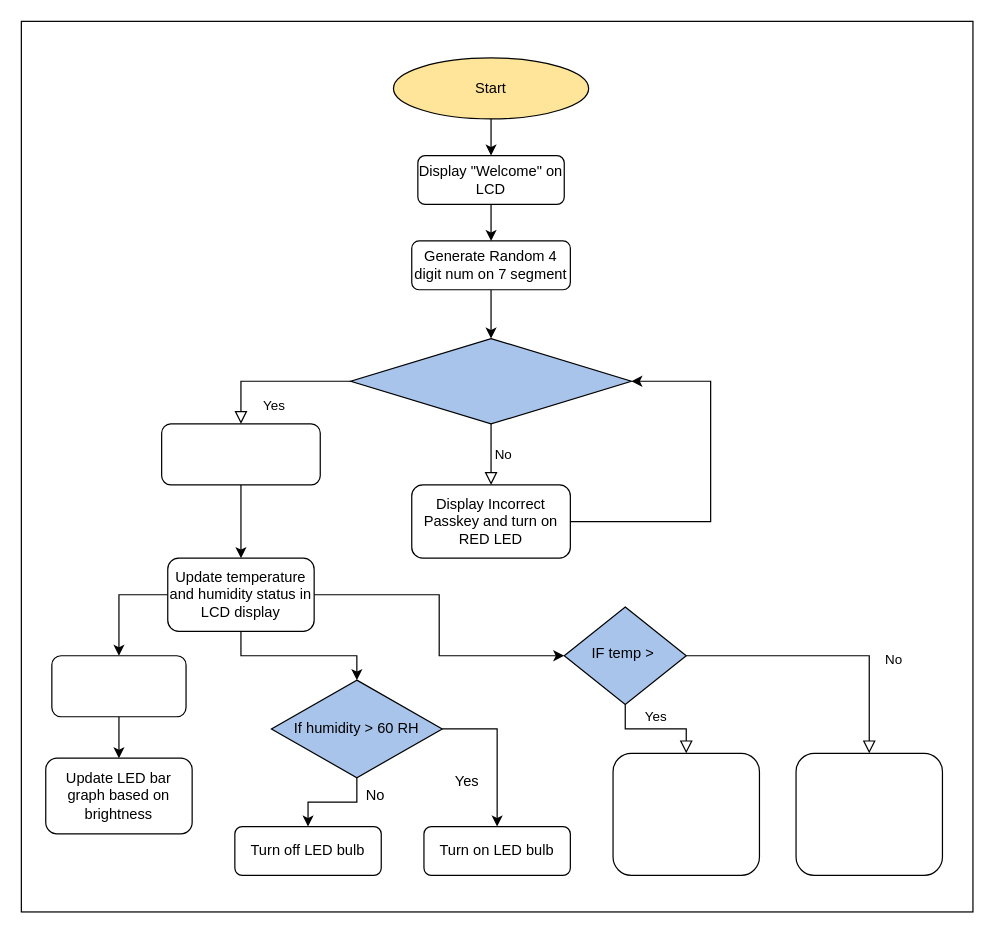
The diagram is 994 pixels wide and 933 high, and some of its shapes have lost their labels. The shapes that lost their labels are listed below. From the top down, each one's centre as x and y in pixels, then its label:
the point at 490,380: If passkey entered == 4 digit num
the point at 240,454: Display Passkey correct and turn on Green LED
the point at 118,686: Check LDR sensor data
the point at 685,813: Turn on DC motor Display temperature Display "Mild Hot"
the point at 868,813: Turn off DC motor Display temperature Display "Cool"
